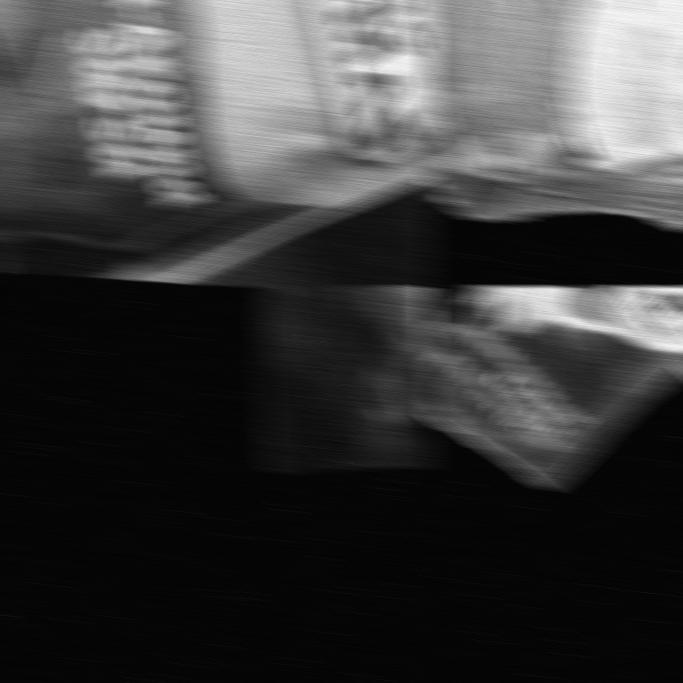choco mucho: (256, 286, 435, 474)
colgate: (424, 286, 683, 491)
lemon square: (424, 0, 683, 232)
mang tomas: (0, 0, 435, 286)
